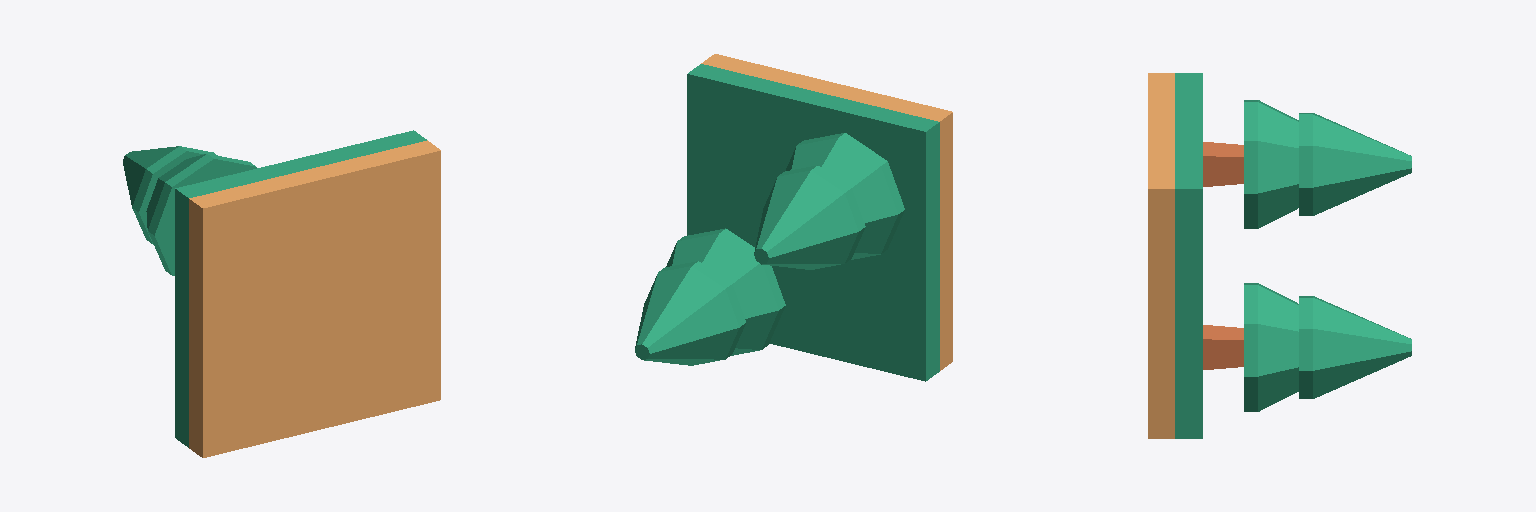
The model's file is tile_treeDouble.obj.
3 renders of one model, left to right at view 1: azimuth 30°, elevation 25°; view 2: azimuth 150°, elevation 25°; view 3: azimuth 270°, elevation 25°, orthographic.
Visible parts, largest first — view 1: tile_treeDouble.002; view 2: tile_treeDouble.002; view 3: tile_treeDouble.002.
Part boxes in pixels (bbox=[...]): tile_treeDouble.002: bbox=[123, 130, 440, 457]; tile_treeDouble.002: bbox=[635, 54, 952, 381]; tile_treeDouble.002: bbox=[1148, 73, 1411, 438].
Size of the model in its own units: 1 by 1 by 0.96.